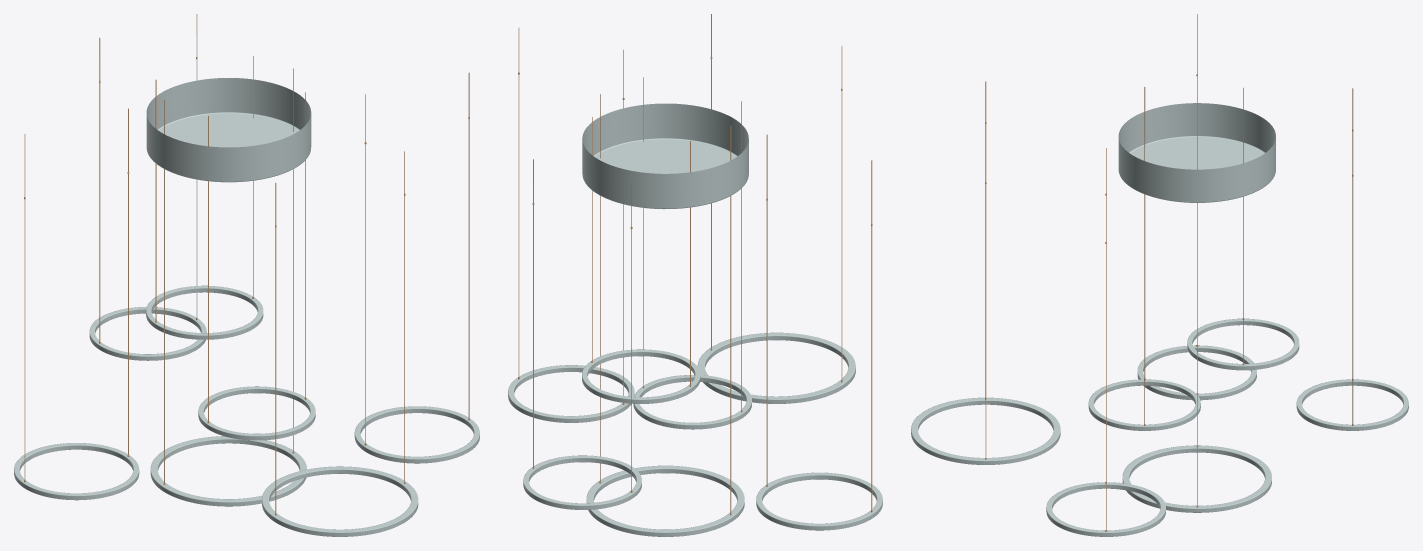
Rendered from Chandelier.fbx.
3 renders of one model, left to right at view 1: azimuth 30°, elevation 25°; view 2: azimuth 150°, elevation 25°; view 3: azimuth 270°, elevation 25°, orthographic. The views are drawn at different scales.
Parts seen in each view (by area): view 1: Chandelier_GEO; view 2: Chandelier_GEO; view 3: Chandelier_GEO.
Boxes of the visible parts, left/top/right/bottom form: Chandelier_GEO: left=14, top=14, right=479, bottom=536; Chandelier_GEO: left=508, top=14, right=882, bottom=536; Chandelier_GEO: left=911, top=14, right=1408, bottom=536.
Size of the model in its own units: 296 by 276 by 333.
